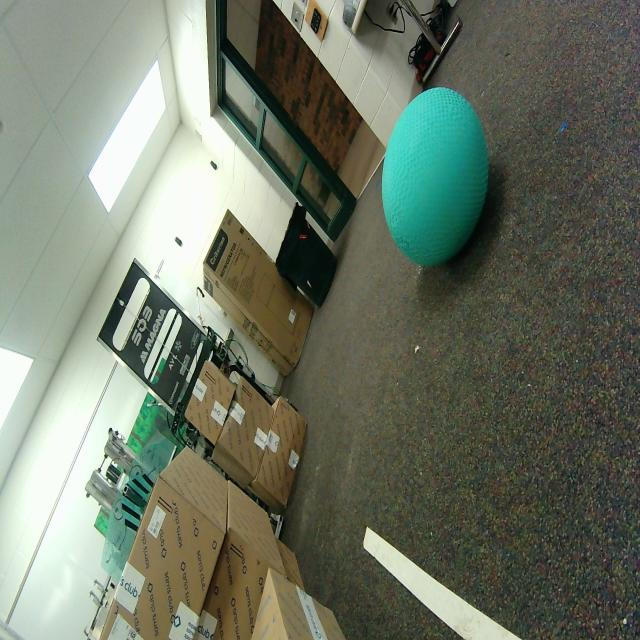algae: (382, 86, 492, 268)
